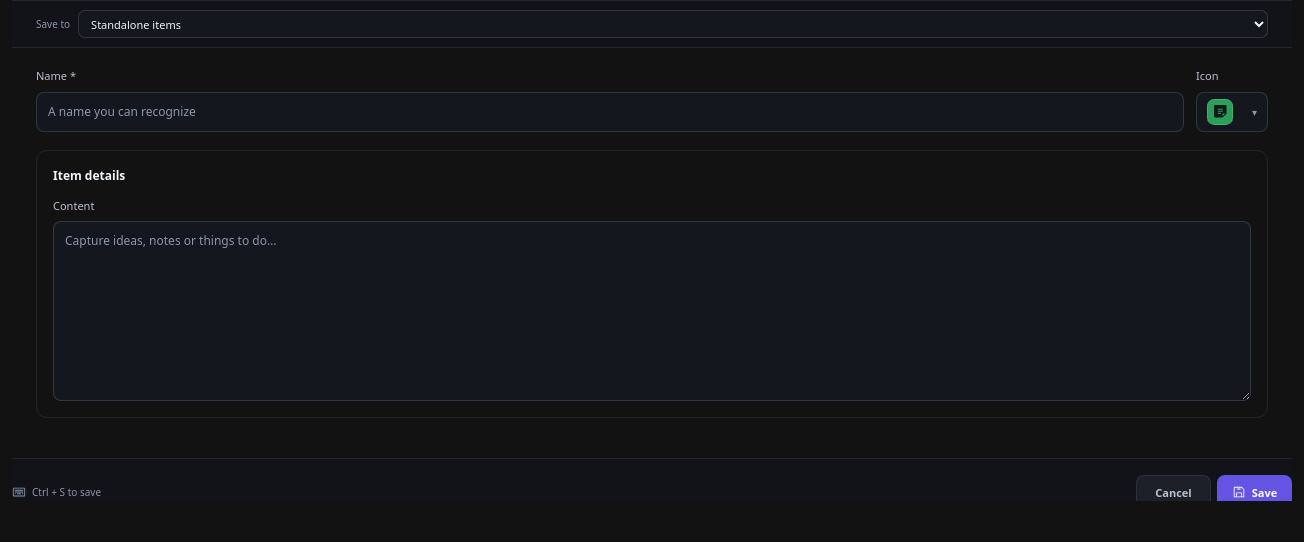
Test: the add form › saving without a name › is still refused for a category with nothing to name it after
Click the button with test id "item-save" at (1254, 492), box [1217,475,1292,509]
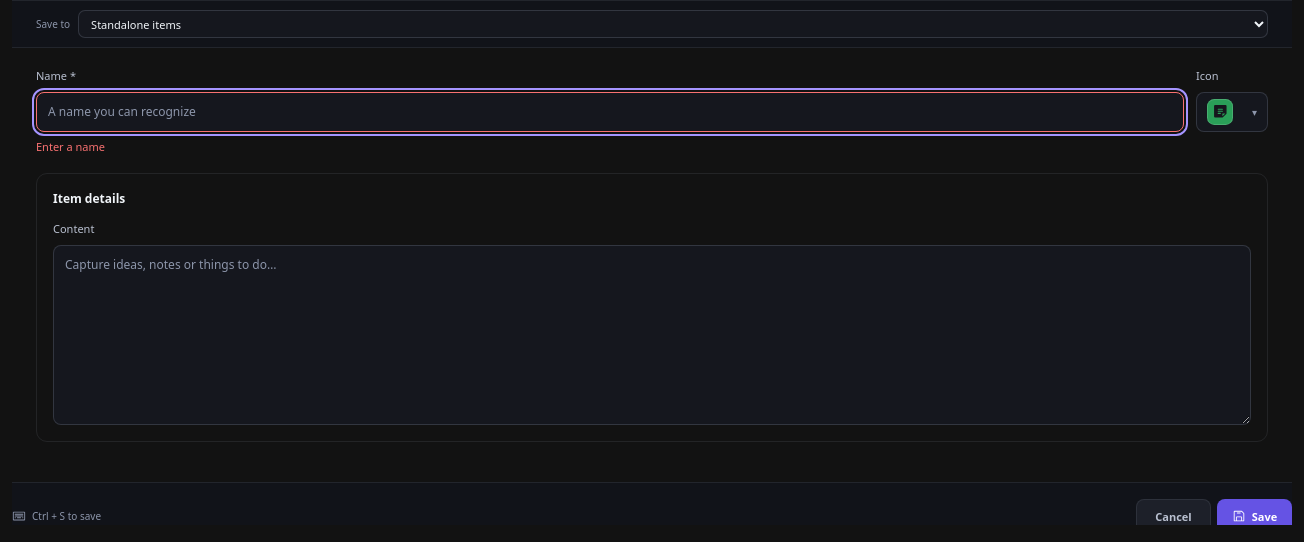
Expected: the message reads "Enter a name", [36,138,105,154]
